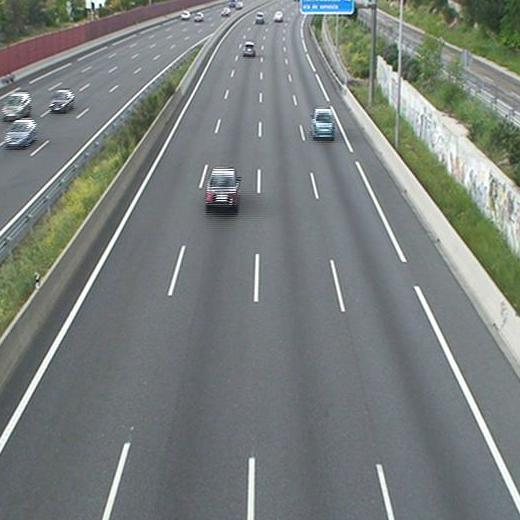car: (205, 167, 240, 215), (311, 108, 336, 142), (243, 43, 256, 57)
